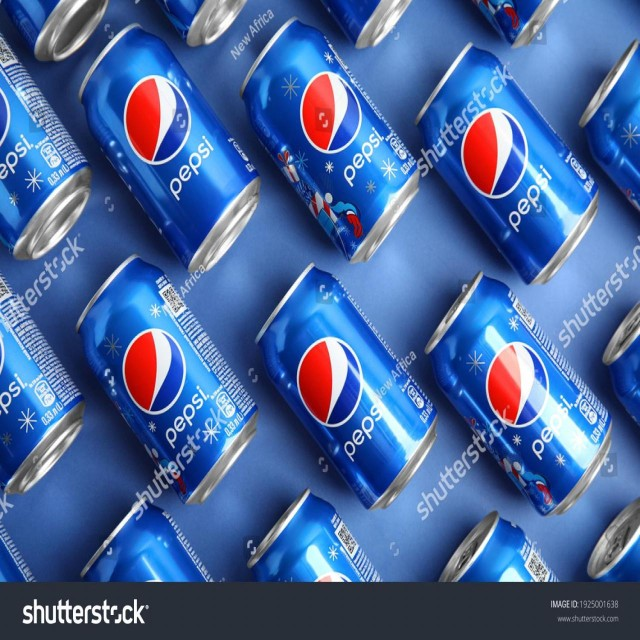pepsi: (120, 73, 192, 164), (121, 326, 189, 422), (296, 334, 364, 430), (483, 340, 554, 430), (461, 110, 532, 197), (294, 70, 364, 155)
